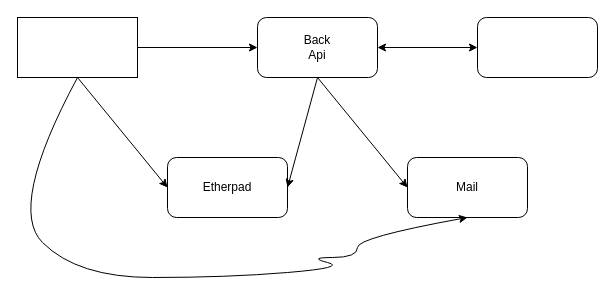
Some shapes in this 615 by 295 pixel diagram are drawn without their labels. The shapes that lost their labels are listed below. From the top down, each one's centre as x and y in pixels, then its label:
[77,47]: Front Nginx
[537,47]: Base de donénes Mysql
